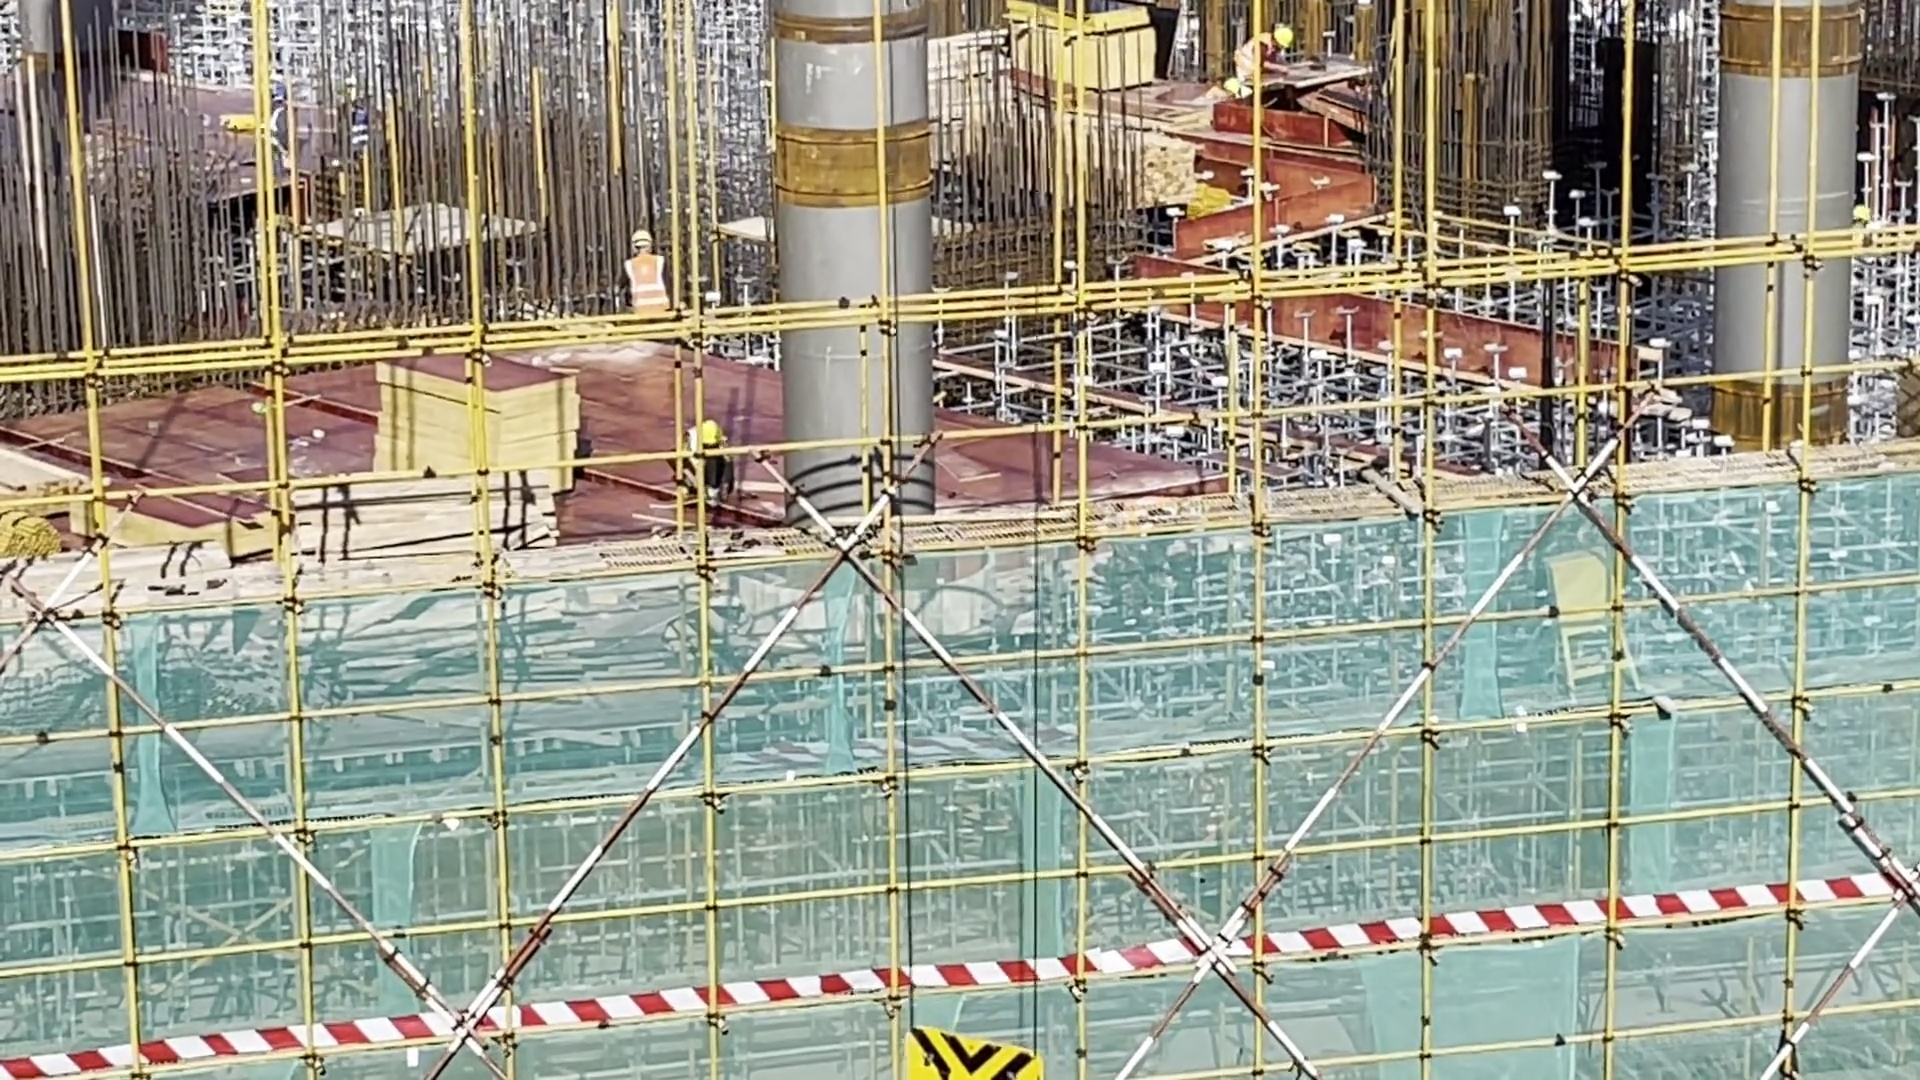board: (369, 354, 583, 488)
helmet: (698, 414, 724, 442), (1274, 27, 1292, 45)
hook: (901, 1023, 1039, 1080)
person: (621, 226, 673, 312), (1234, 25, 1295, 82)
vest: (625, 251, 666, 307), (1231, 32, 1271, 77)
